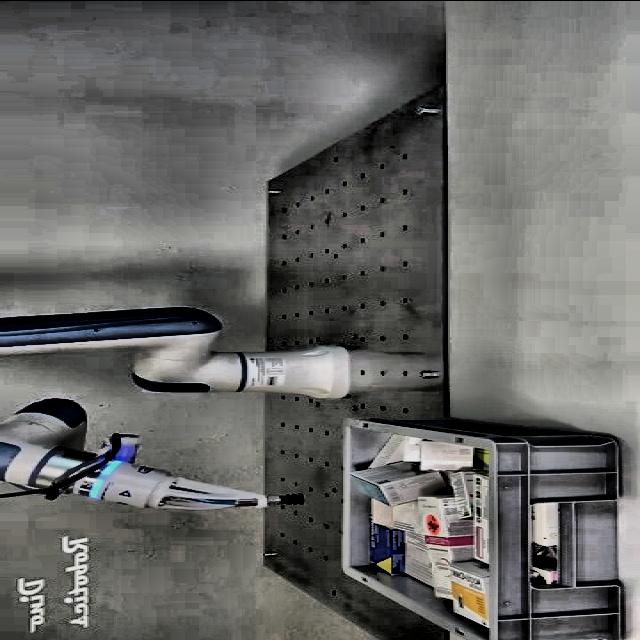robot: (0, 305, 350, 510)
